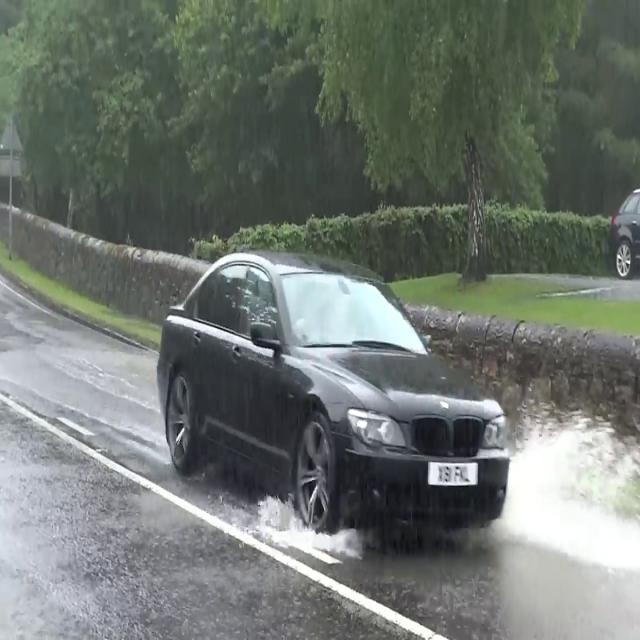license-plate-annotation: (431, 462, 477, 484)
